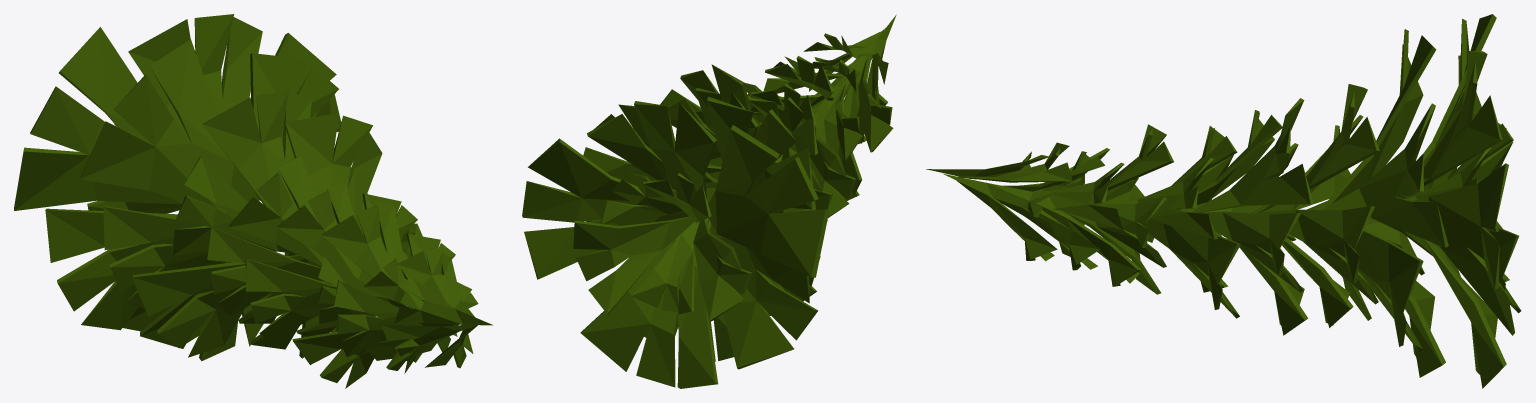
The model's file is PineTreeLeafs.glb.
3 views of the same model, side by side, from view 1: azimuth 30°, elevation 25°; view 2: azimuth 150°, elevation 25°; view 3: azimuth 270°, elevation 25° (orthographic). The views are drawn at different scales.
Visible parts, largest first — view 1: PineTreeLeafs; view 2: PineTreeLeafs; view 3: PineTreeLeafs.
Boxes of the visible parts, box(x1,y1,x2,y2) form: PineTreeLeafs: box(14, 14, 492, 388); PineTreeLeafs: box(522, 14, 896, 388); PineTreeLeafs: box(926, 14, 1521, 388).
Bounding box in the file's own units: 3.56 × 3.33 × 5.6.
Materials: 1 (1 with a texture image).
